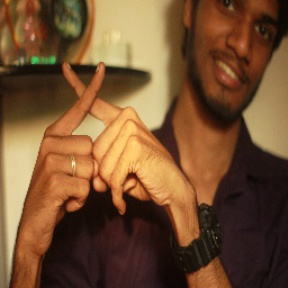X: (36, 52, 139, 161)
